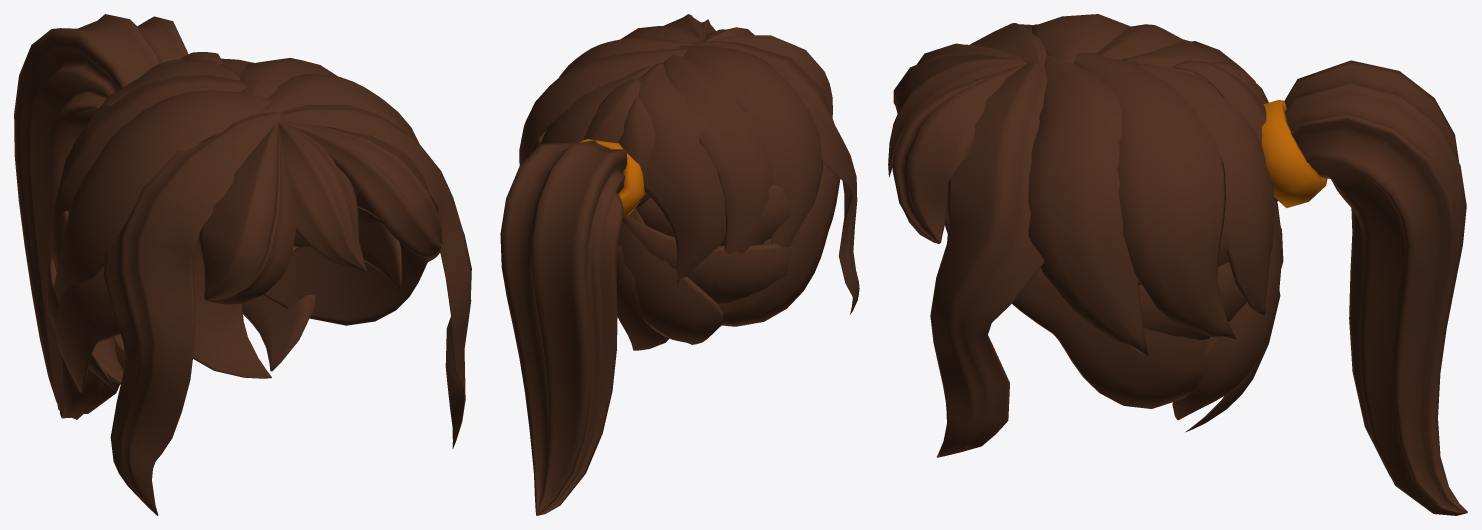
The picture shows the model from 3 angles, left to right: view 1: azimuth 30°, elevation 25°; view 2: azimuth 150°, elevation 25°; view 3: azimuth 270°, elevation 25°; orthographic projection. The views are drawn at different scales.
Visible parts, largest first — view 1: hairMediumPonytail; view 2: hairMediumPonytail; view 3: hairMediumPonytail.
Boxes of the visible parts, x1,y1,x2,y2 form: hairMediumPonytail: [14, 14, 471, 515]; hairMediumPonytail: [500, 14, 859, 515]; hairMediumPonytail: [888, 14, 1467, 515].
Bounding box in the file's own units: 0.503 × 0.632 × 0.7081.
1 material, 1 textured.
